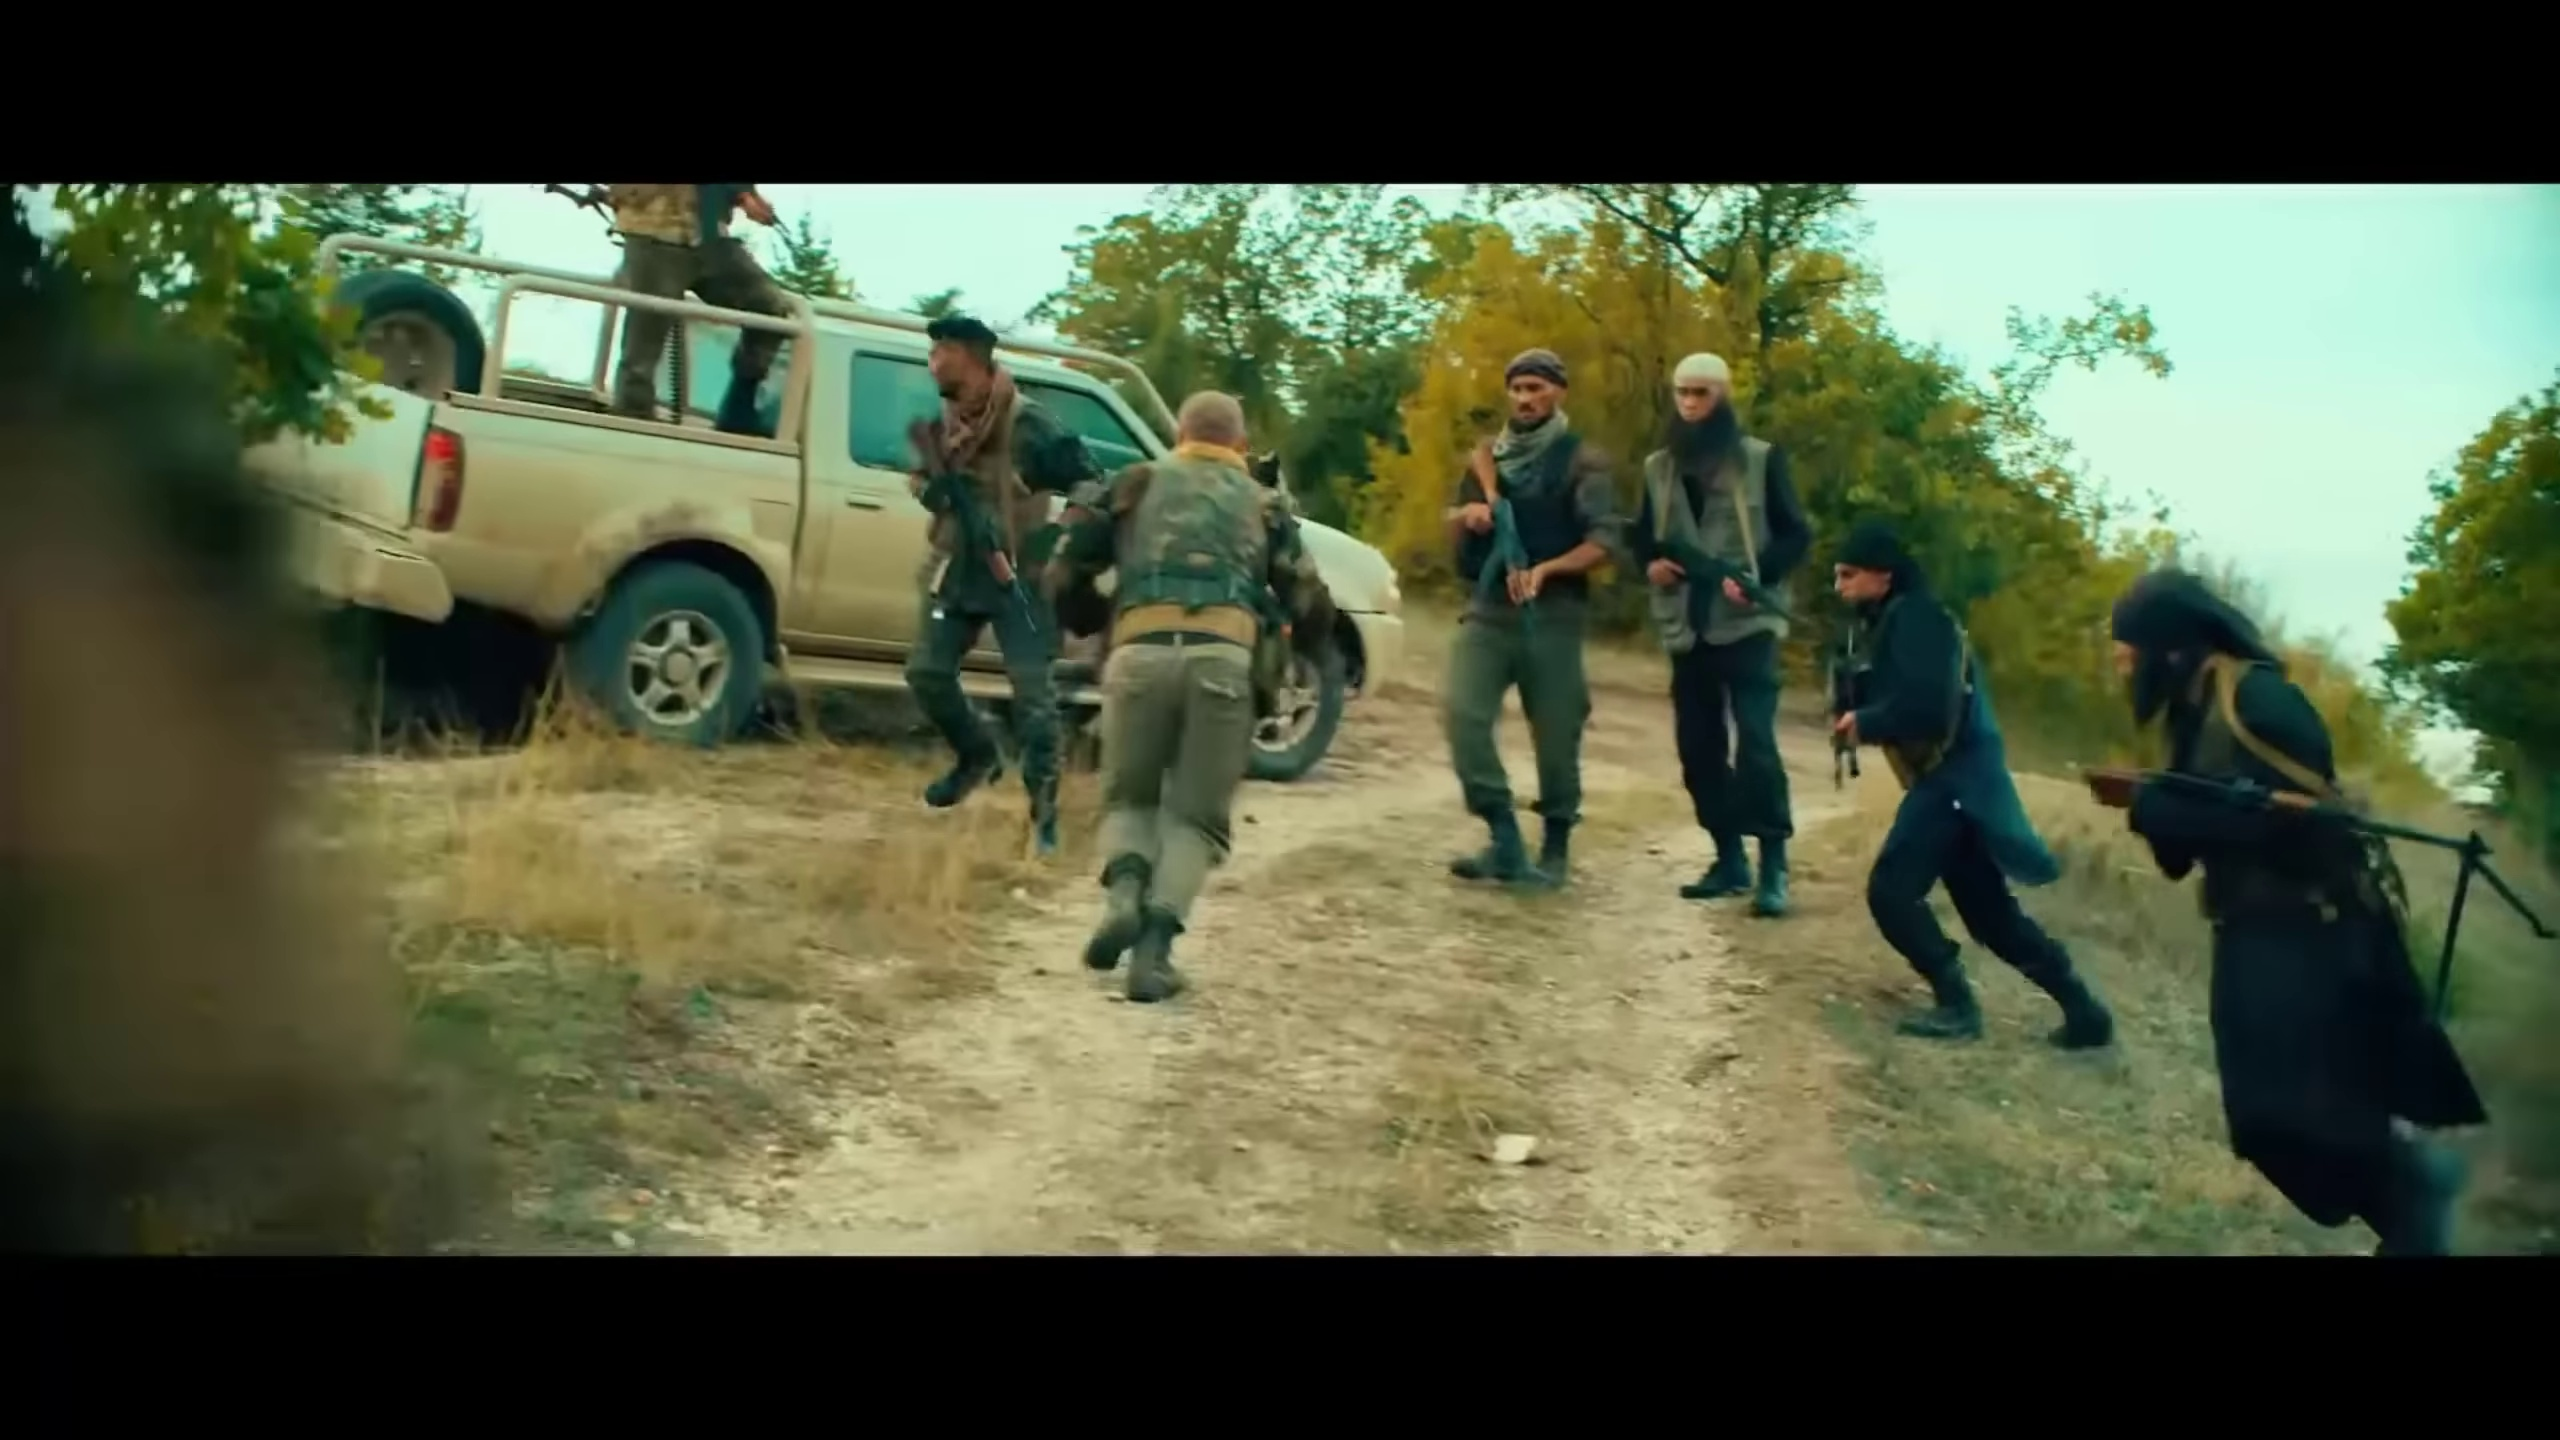gun: (2082, 747, 2484, 900), (905, 415, 1041, 640), (1616, 519, 1822, 638), (1461, 436, 1537, 624), (1829, 617, 1873, 796), (724, 181, 791, 250)
p_w_gun: (2075, 561, 2490, 1257), (1806, 519, 2119, 1051), (897, 309, 1115, 869), (1612, 346, 1811, 918), (1433, 346, 1623, 888), (608, 181, 793, 436)
p_wo_gun_not_carrying_normal_pose: (1041, 382, 1336, 1000)
